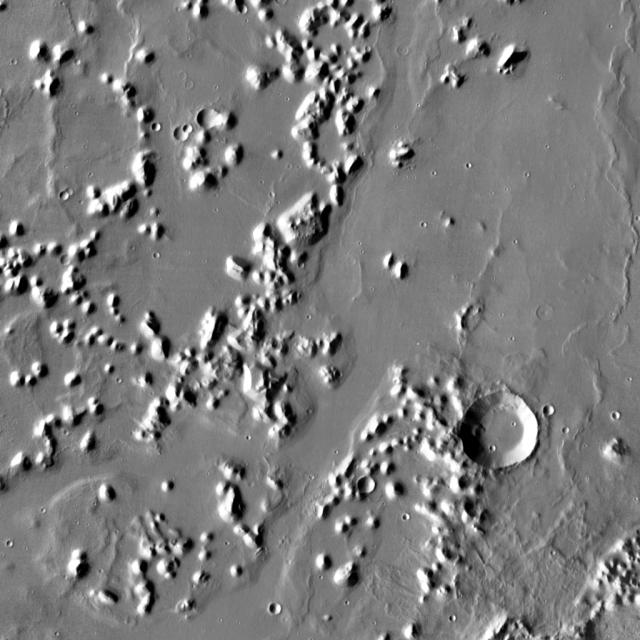crater: (458, 397, 534, 472), (192, 112, 211, 132), (357, 478, 375, 496), (537, 305, 555, 323), (174, 126, 190, 142), (544, 406, 554, 416), (270, 604, 280, 614), (399, 46, 409, 56), (62, 256, 72, 266), (184, 125, 193, 134), (152, 124, 161, 133), (61, 191, 70, 200), (240, 6, 248, 15), (345, 135, 353, 143), (67, 187, 75, 195), (349, 257, 357, 265), (277, 0, 287, 6), (186, 82, 193, 90), (444, 610, 451, 618), (613, 412, 620, 419), (180, 73, 187, 80), (402, 514, 410, 520), (242, 476, 250, 482), (70, 52, 76, 58), (490, 446, 496, 452), (564, 428, 570, 433)
